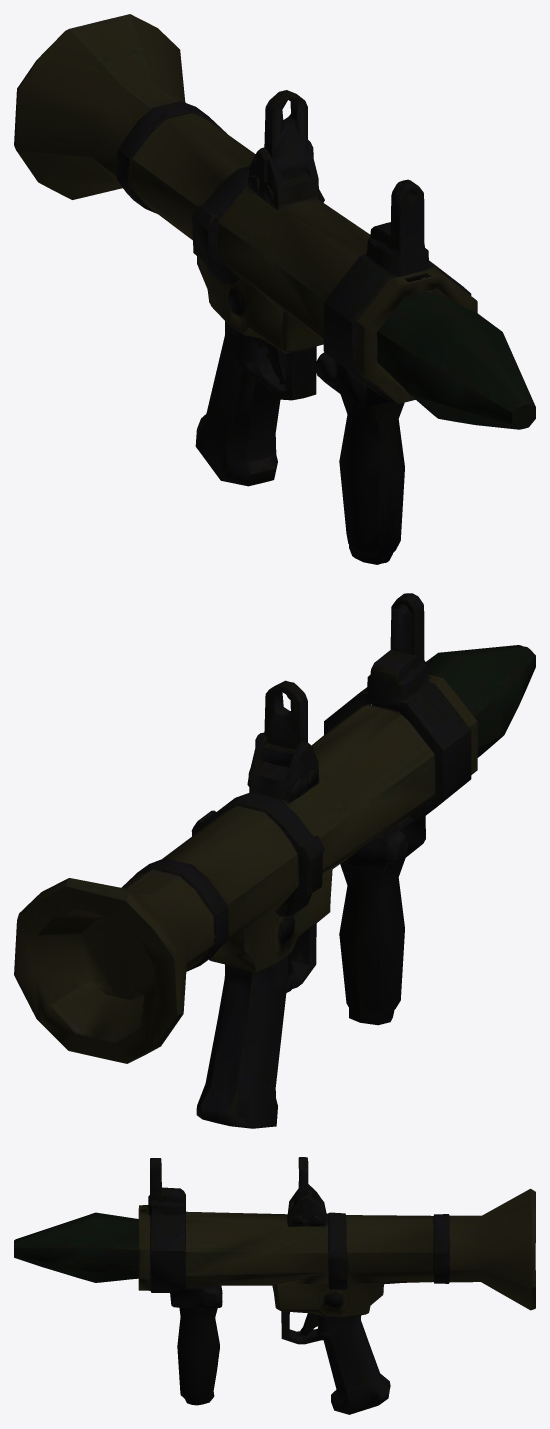
The model's file is gun-rocket.glb.
3 views of the same model, one above another, from view 1: azimuth 30°, elevation 25°; view 2: azimuth 150°, elevation 25°; view 3: azimuth 270°, elevation 25° (orthographic). The views are drawn at different scales.
Visible parts, largest first — view 1: world; view 2: world; view 3: world.
Boxes of the visible parts, x1,y1,x2,y2 form: world: [14, 14, 535, 564]; world: [14, 593, 535, 1128]; world: [14, 1157, 535, 1414].
Bounding box in the file's own units: 0.2264 × 0.5271 × 1.
1 material, 1 textured.
